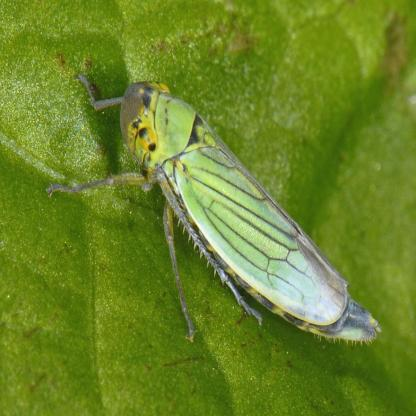Green-Leafhopper: (49, 67, 383, 352)
